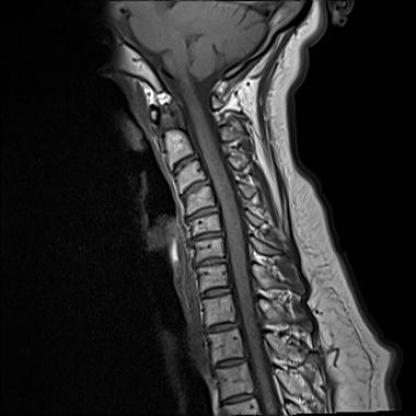Disc Protrusionrotation: (175, 180, 215, 196), (182, 206, 219, 223), (187, 230, 227, 244), (194, 255, 231, 270)
